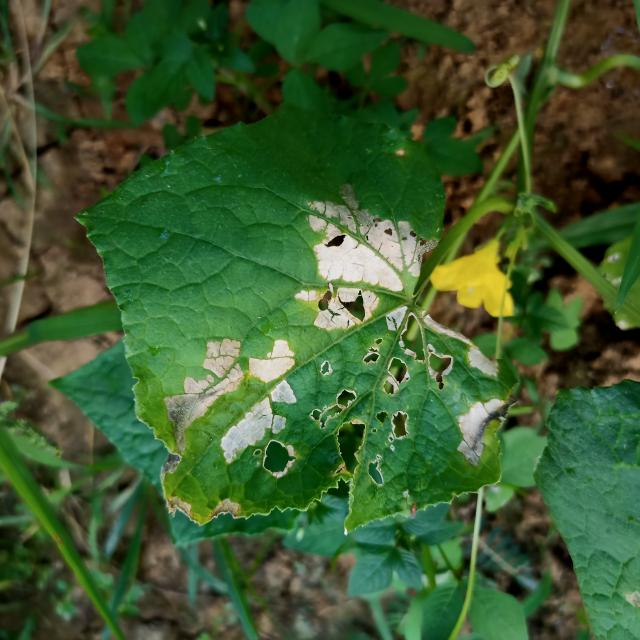disease_cucumber: (154, 284, 504, 520), (288, 193, 435, 336)
